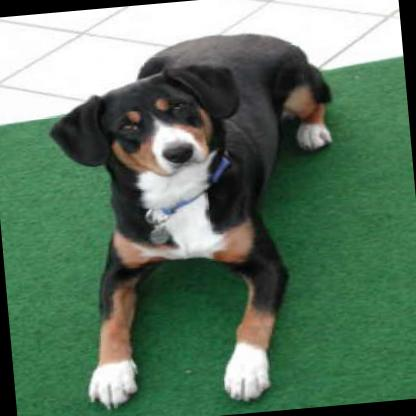EntleBucher: (37, 24, 359, 416)
